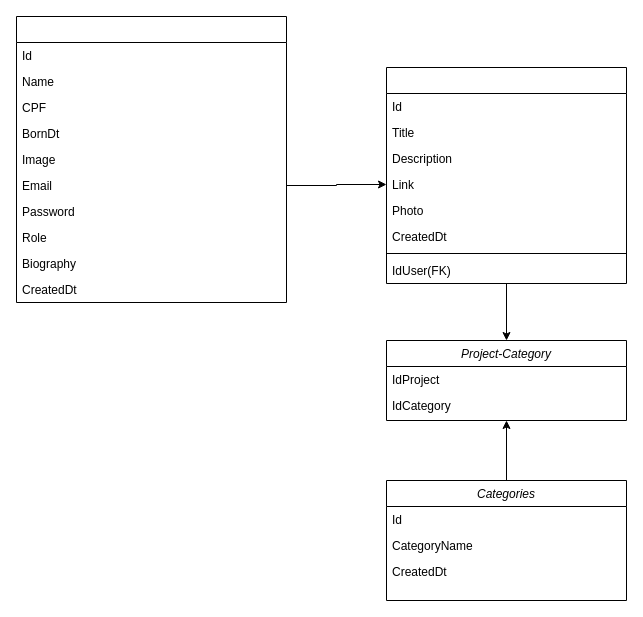
Image size: 643x617. Some labels were removed from this diagram. The shapes that lost their labels are listed below. From the top down, each one's box as (x1, y1, x2, y2) in pixels, then its label:
(16, 16, 286, 302): Users
(386, 66, 626, 284): Projects
